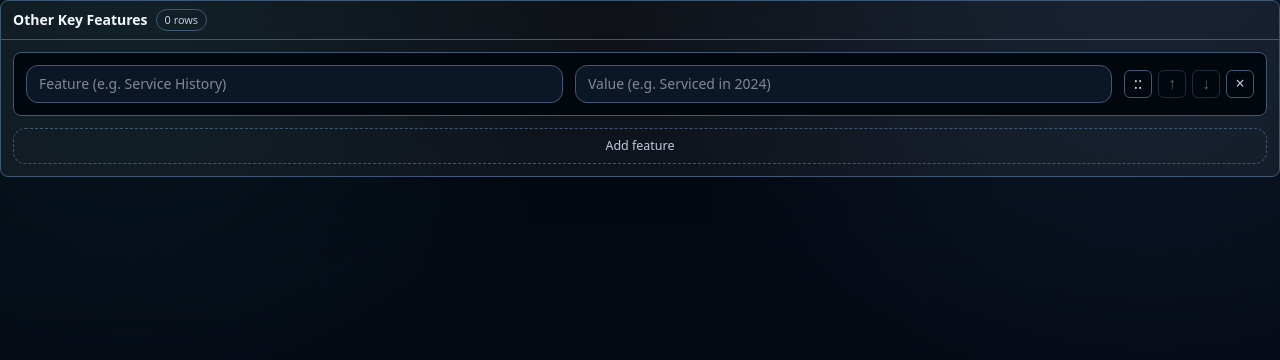
Test: KeyFeaturesEditor › warns when a user manually enters an auto-mapped feature name
Type "Condition" into the field named "Key feature 1" at (294, 84), box [26,64,563,102]
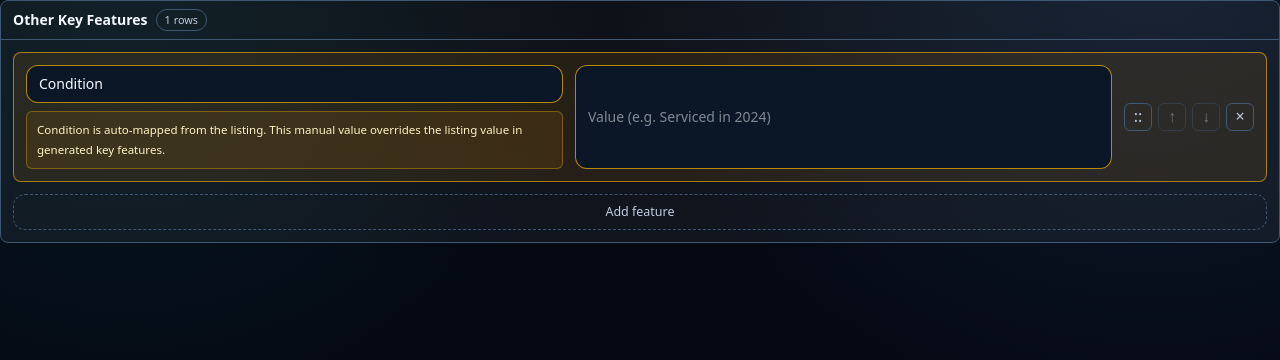
Expected: the text "Condition is auto-mapped from the listing. This manual value overrides the listing value in generated key features." is shown, [26,110,563,168]
